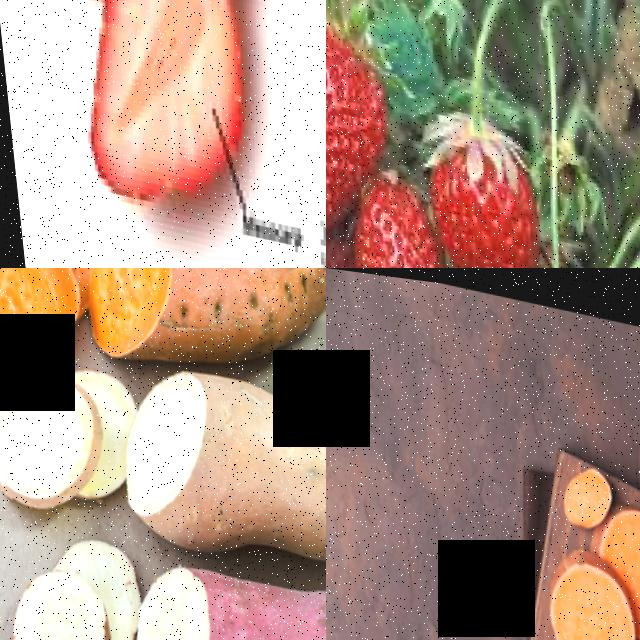strawberry: (405, 110, 539, 268), (326, 0, 390, 180), (331, 178, 436, 268)
sweet potato: (102, 341, 326, 574), (64, 268, 326, 391), (104, 531, 326, 640), (0, 354, 104, 518), (533, 524, 636, 640), (0, 550, 109, 640), (0, 268, 88, 378)
